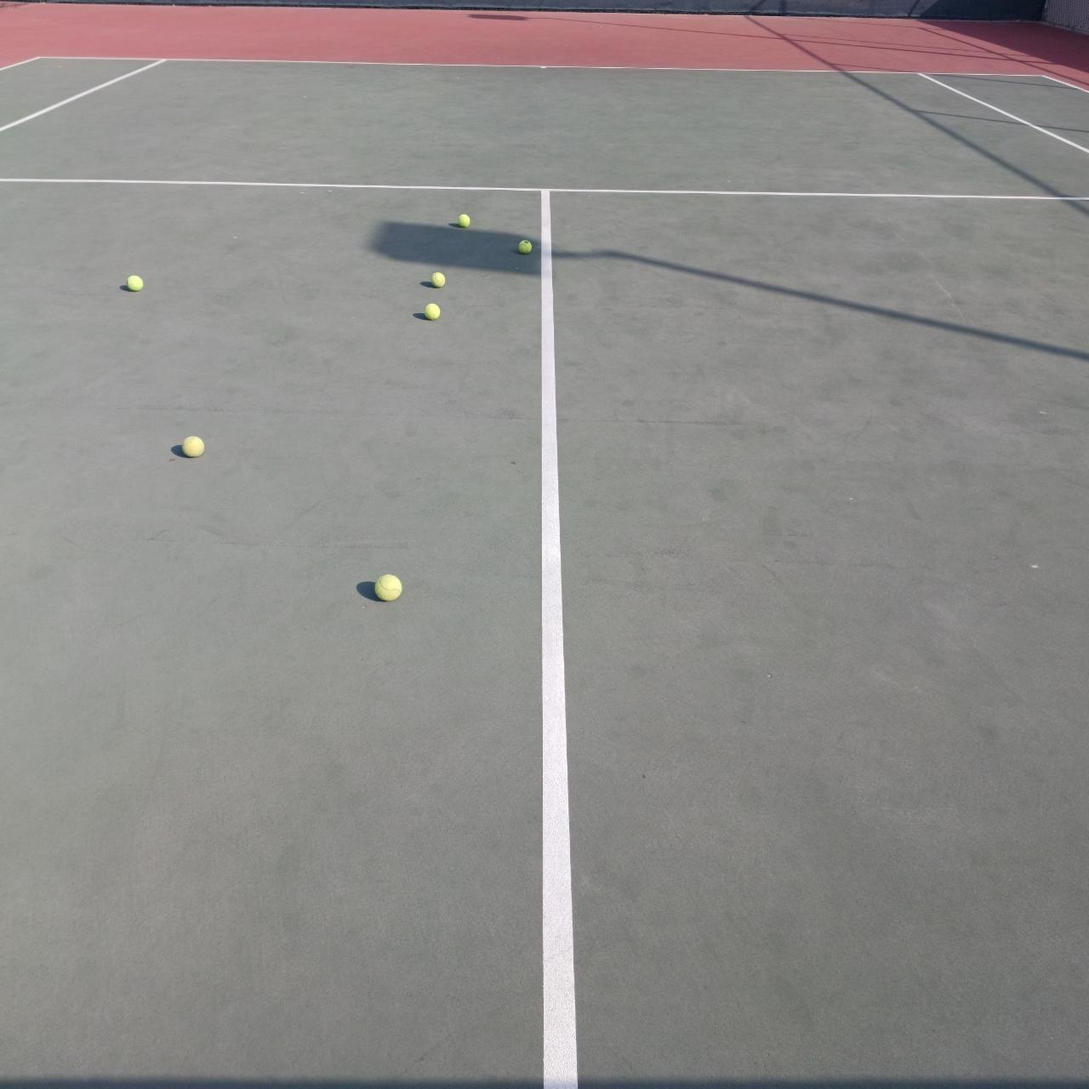tennis-ball: (373, 571, 402, 601), (181, 434, 204, 457), (125, 272, 144, 292), (423, 300, 441, 320), (430, 270, 445, 288), (516, 237, 531, 254), (456, 211, 470, 227)
